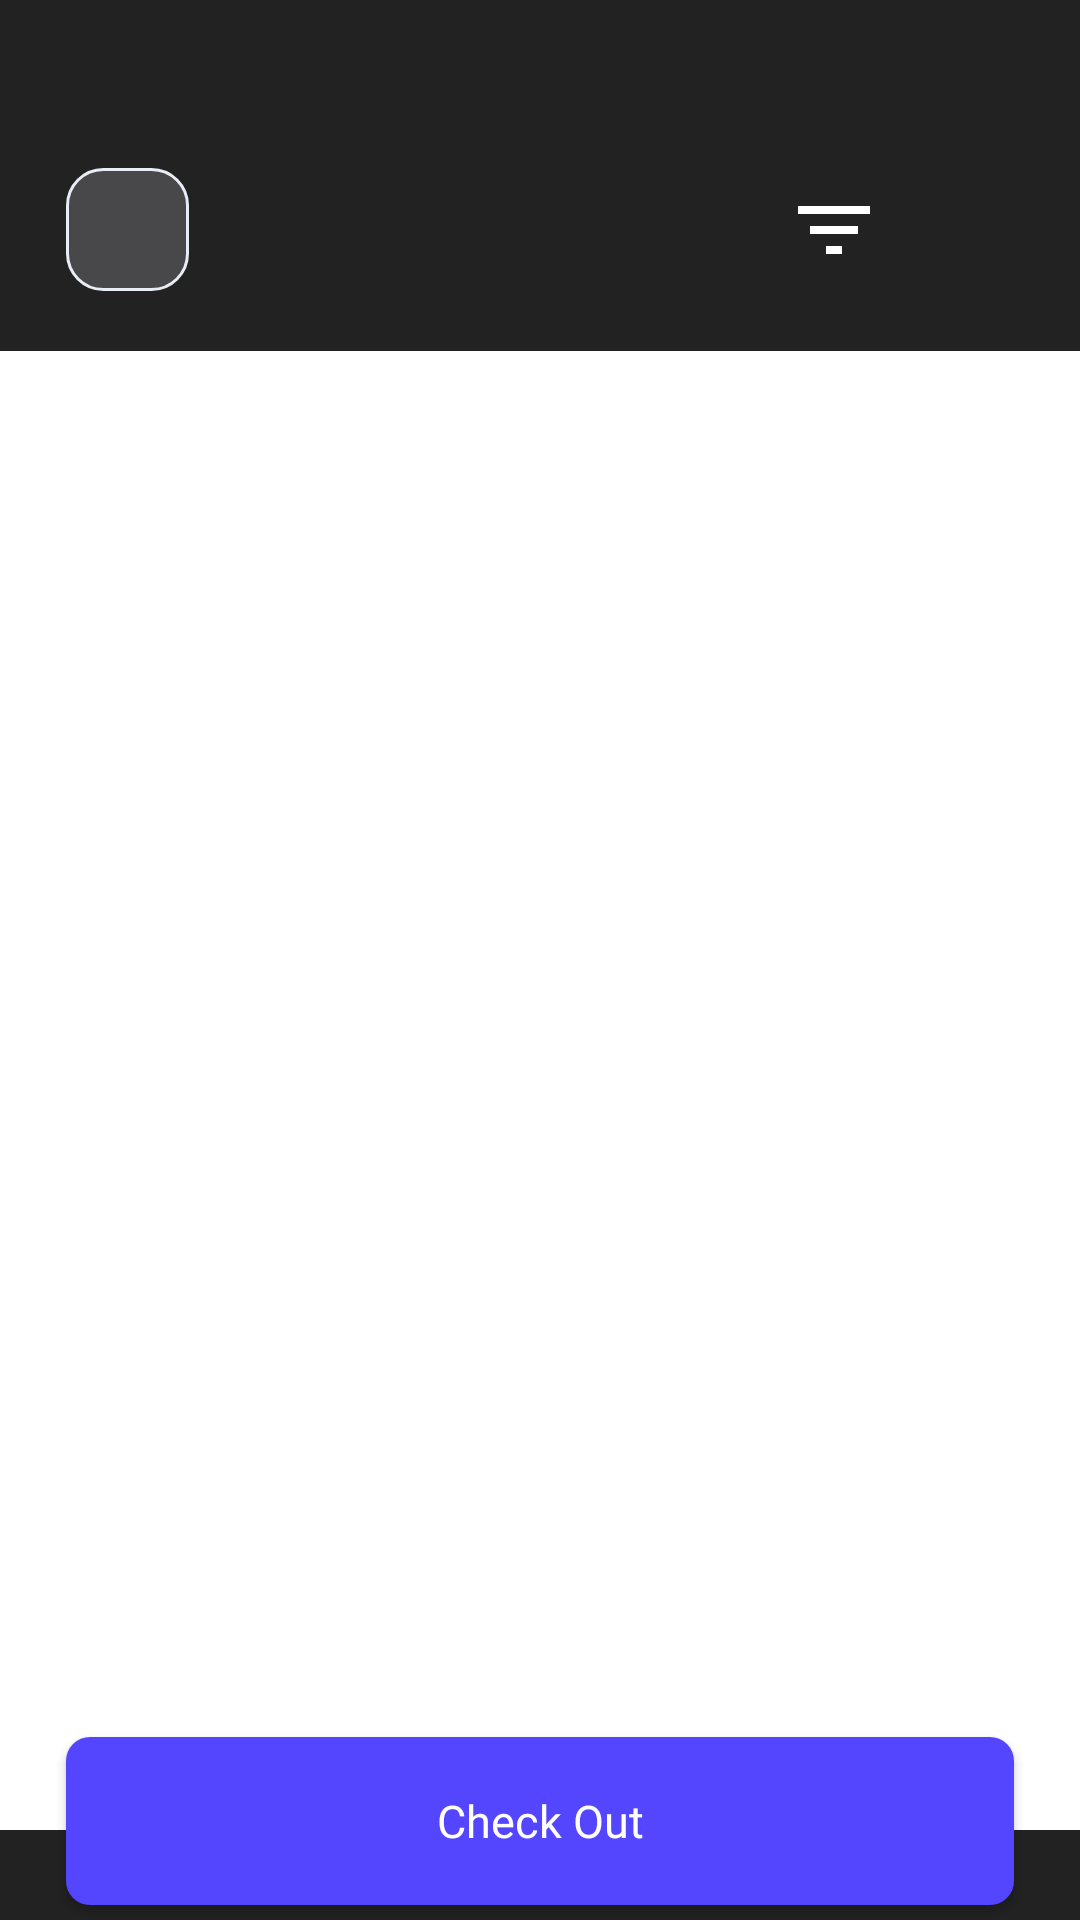

Icon bounding boxes for this 1080 x 1920 phone screenshot, format bbox=(x1, y1, x2, y2):
vectormenu: bbox=(798, 206, 870, 254)
